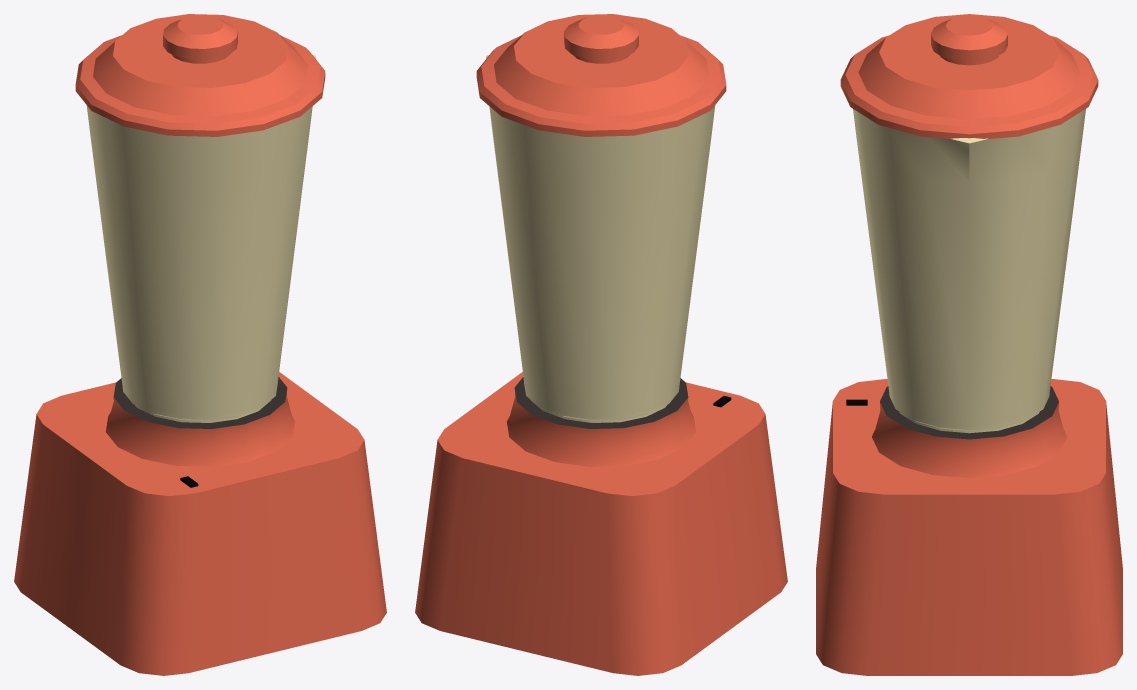
File: blender.obj
3 renders of one model, left to right at view 1: azimuth 30°, elevation 25°; view 2: azimuth 150°, elevation 25°; view 3: azimuth 270°, elevation 25°, orthographic. The views are drawn at different scales.
Visible parts, largest first — view 1: bottom.001, body.001, cap.001; view 2: bottom.001, body.001, cap.001; view 3: bottom.001, body.001, cap.001.
Boxes of the visible parts, <box> form: bottom.001: <box>14,372,386,675</box>; body.001: <box>86,55,315,422</box>; cap.001: <box>75,14,325,136</box>; bottom.001: <box>415,372,787,675</box>; body.001: <box>486,55,715,422</box>; cap.001: <box>476,14,726,136</box>; bottom.001: <box>816,379,1122,675</box>; body.001: <box>853,109,1085,433</box>; cap.001: <box>840,14,1098,138</box>.
Bounding box in the file's own units: 0.2324 × 0.4894 × 0.2324.
